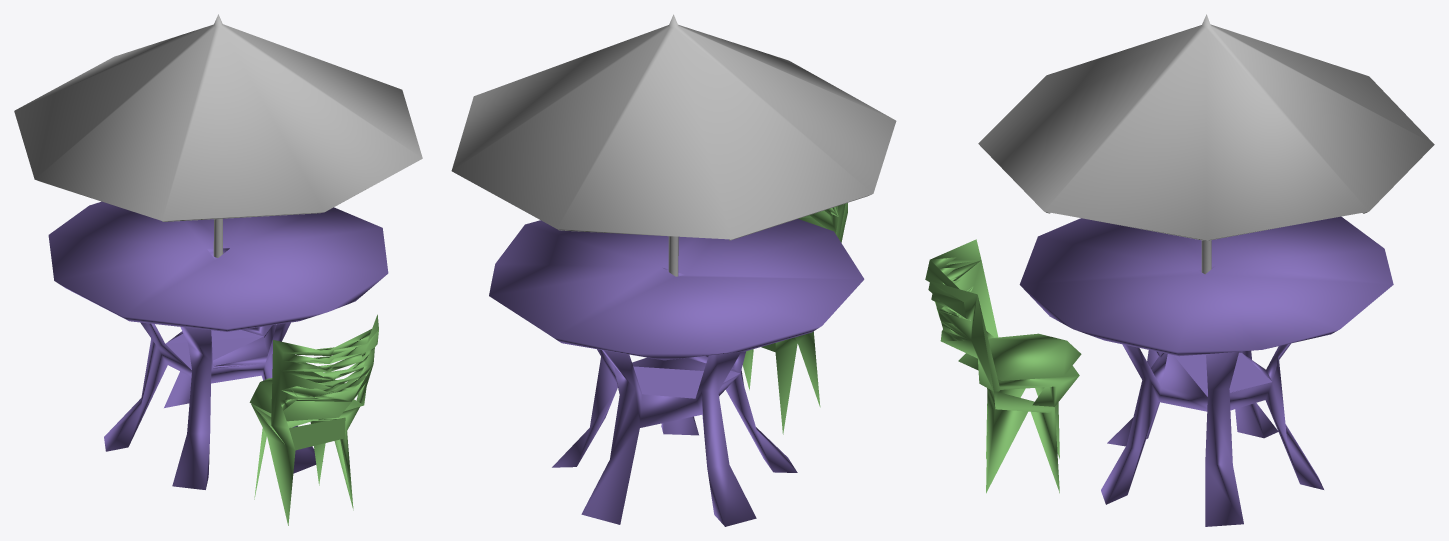
Rendered from table.fbx.
3 views of the same model, side by side, from view 1: azimuth 30°, elevation 25°; view 2: azimuth 150°, elevation 25°; view 3: azimuth 270°, elevation 25° (orthographic). The views are drawn at different scales.
Visible parts, largest first — view 1: pCone2, pCylinder7, pCylinder9; view 2: pCone2, pCylinder7, pCylinder9; view 3: pCone2, pCylinder7, pCylinder9.
Part boxes in pixels (box(x1,y1,x2,y2)): pCone2: box(14, 14, 422, 257); pCylinder7: box(48, 201, 388, 489); pCylinder9: box(249, 314, 378, 525); pCone2: box(451, 14, 896, 276); pCylinder7: box(489, 219, 864, 526); pCylinder9: box(743, 203, 847, 434); pCone2: box(978, 14, 1434, 274); pCylinder7: box(1019, 216, 1393, 526); pCylinder9: box(925, 239, 1081, 493).
Bounding box in the file's own units: 195 × 218 × 217.
